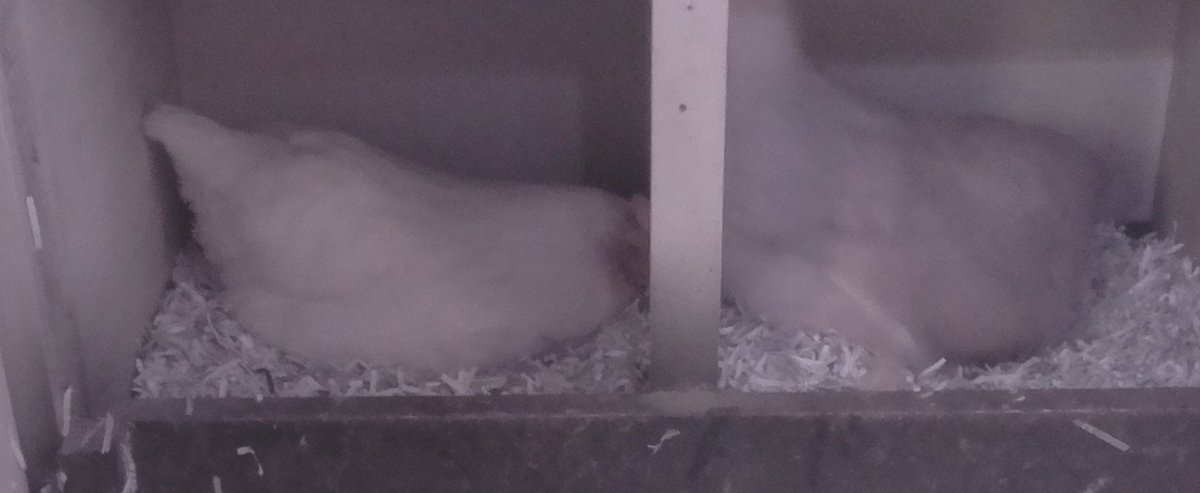hen: (729, 7, 1110, 363), (143, 110, 645, 375)
